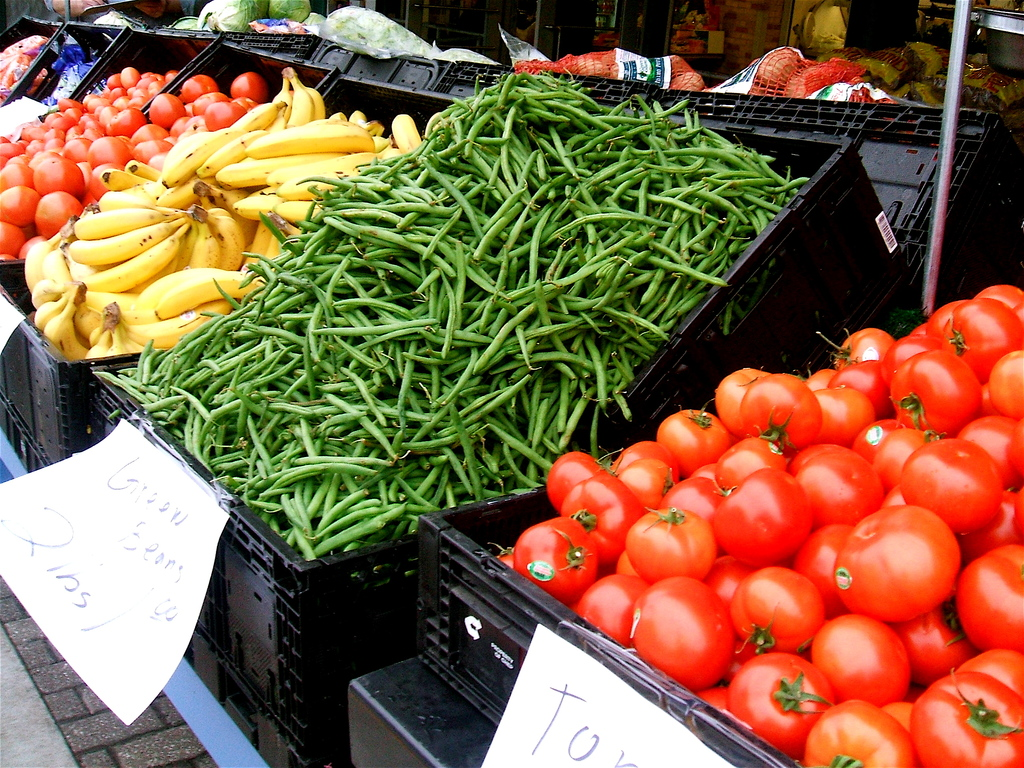Tomato: (501, 280, 1023, 764), (0, 63, 273, 262), (643, 582, 741, 681)
